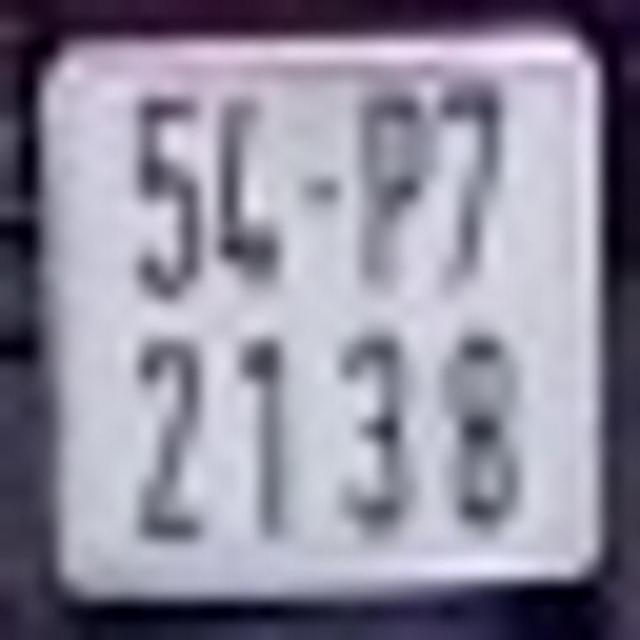1: (233, 337, 290, 545)
2: (130, 332, 209, 542)
3: (334, 337, 414, 537)
4: (214, 93, 286, 310)
5: (134, 95, 204, 312)
7: (436, 92, 511, 300)
8: (440, 326, 523, 516)
F: (354, 94, 432, 300)
